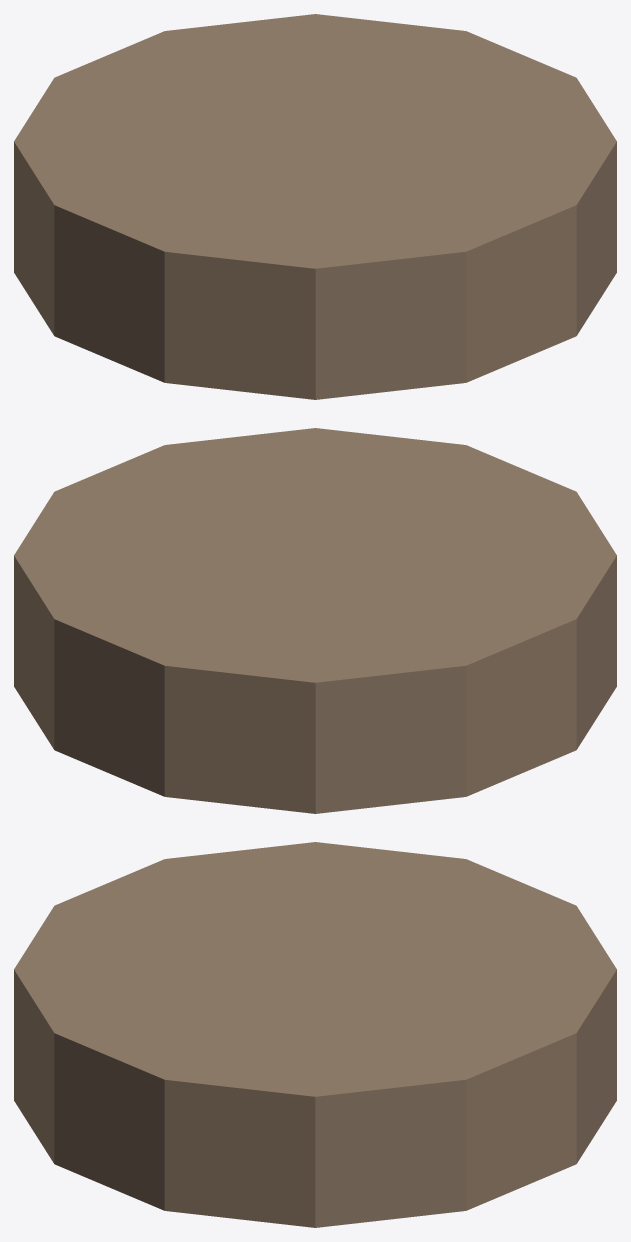
File: PR-SEAL-B.glb
3 views of the same model, one above another, from view 1: azimuth 30°, elevation 25°; view 2: azimuth 150°, elevation 25°; view 3: azimuth 270°, elevation 25° (orthographic).
Visible parts, largest first — view 1: container; view 2: container; view 3: container.
Boxes of the visible parts, <box> form: container: <box>14,14,616,399</box>; container: <box>14,428,616,813</box>; container: <box>14,842,616,1227</box>.
Size of the model in its own units: 0.05 by 0.012 by 0.05.
